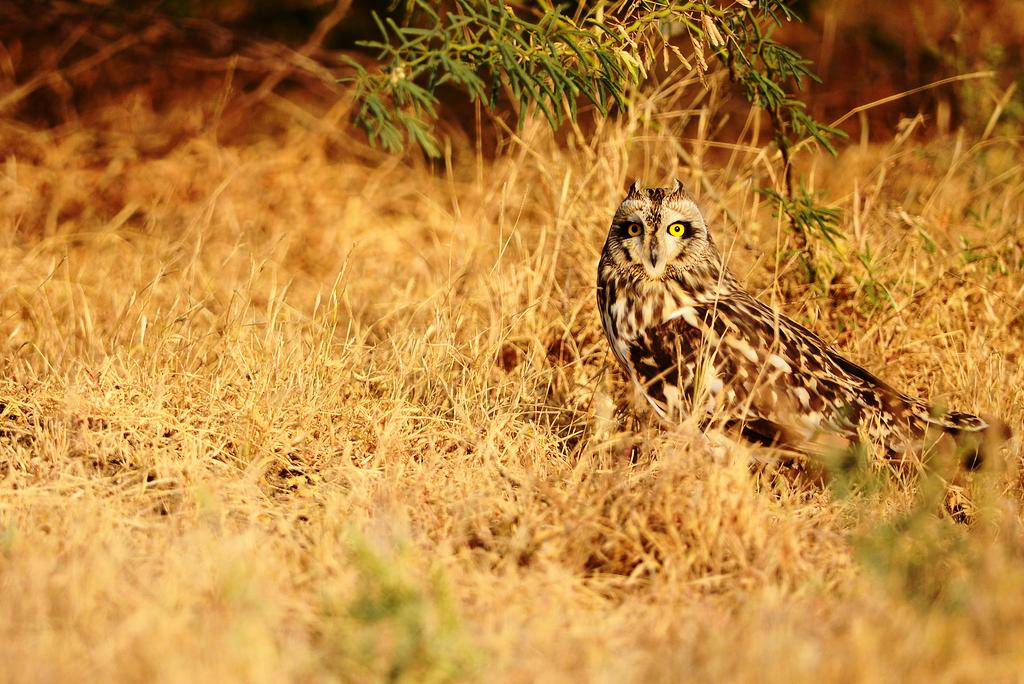Owl: (596, 177, 1014, 472)
